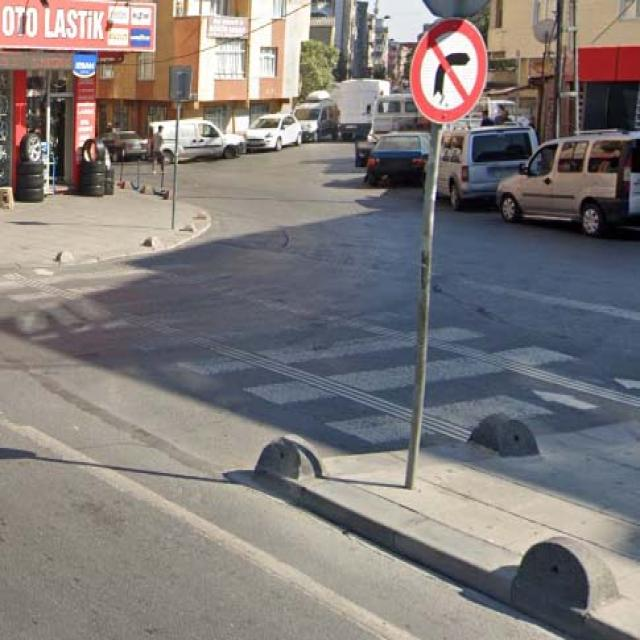sagadonulmez: (409, 17, 488, 123)
